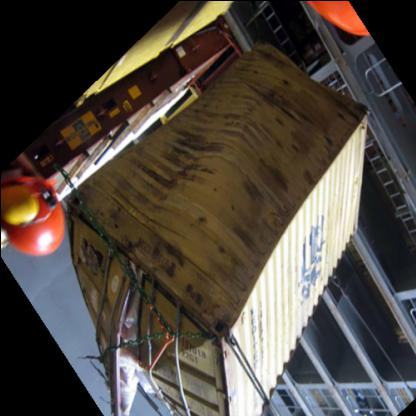Damage: (92, 258, 161, 414)
